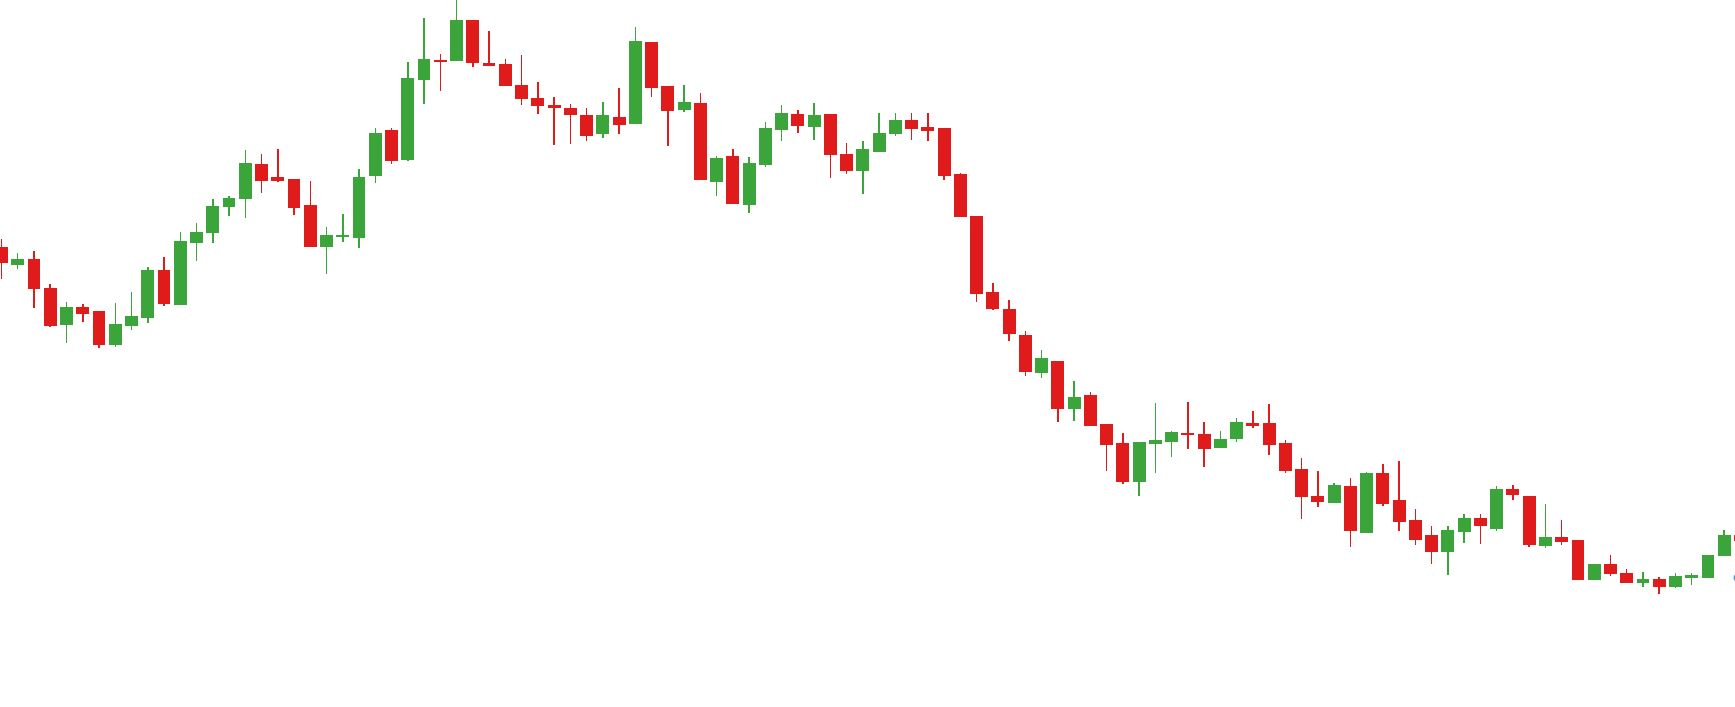buy: (235, 174, 370, 278)
sell: (512, 29, 661, 112)
